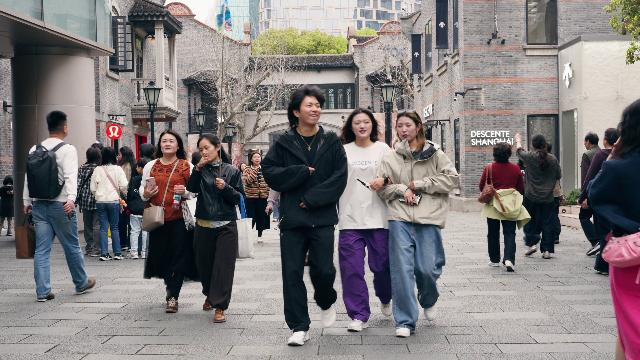person: (260, 86, 347, 346), (369, 110, 460, 338), (22, 110, 96, 302), (336, 107, 394, 332), (135, 122, 191, 324), (186, 133, 244, 324), (586, 98, 640, 275), (479, 142, 526, 272), (514, 132, 562, 259), (576, 128, 620, 257), (89, 147, 129, 261), (608, 230, 640, 360), (74, 147, 102, 256), (242, 151, 268, 244), (126, 158, 149, 259), (579, 131, 603, 191), (0, 175, 15, 236)
